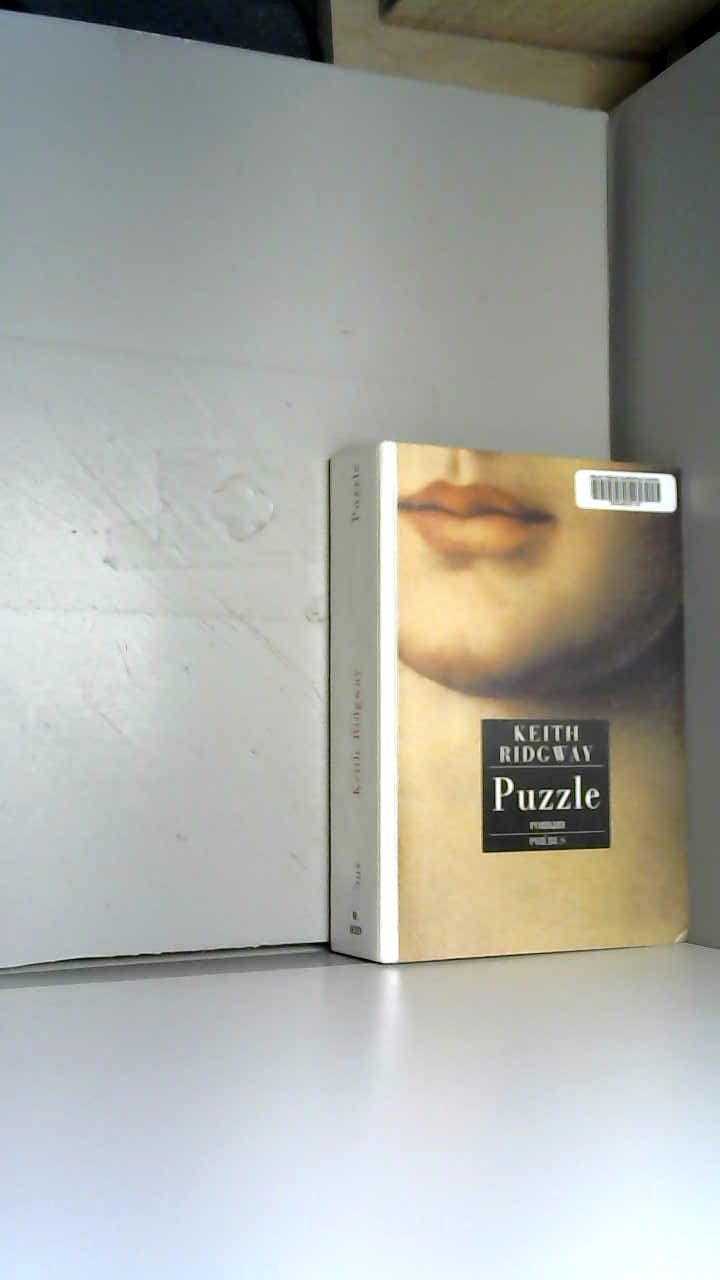book: (296, 408, 720, 998)
